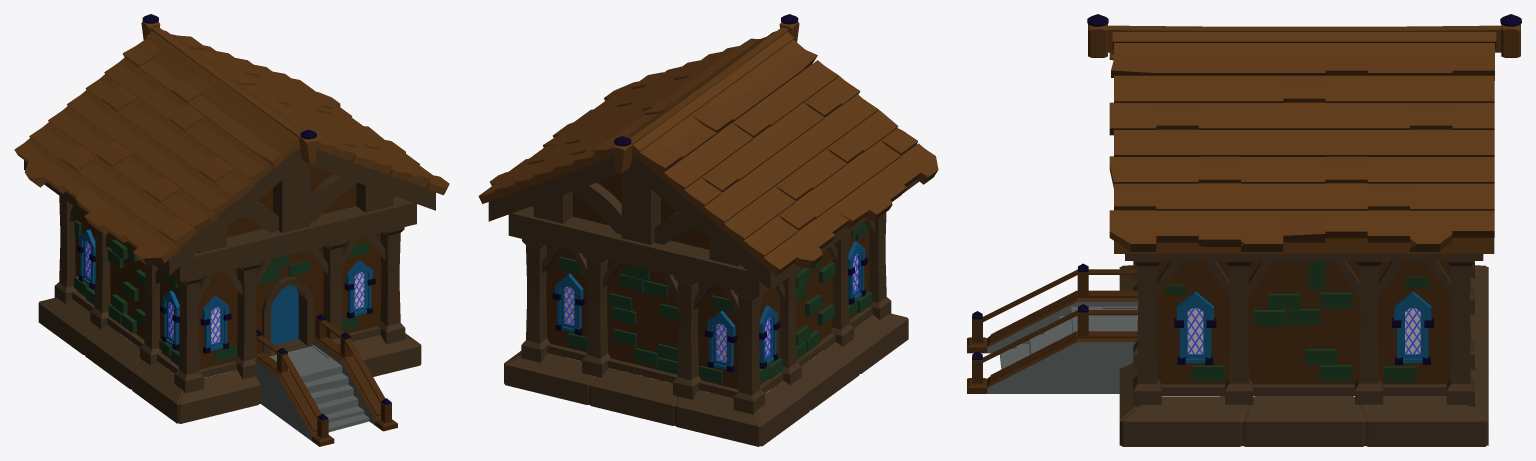
Rendered from SM_Hous_14_B.gltf.
3 renders of one model, left to right at view 1: azimuth 30°, elevation 25°; view 2: azimuth 150°, elevation 25°; view 3: azimuth 270°, elevation 25°, orthographic. The views are drawn at different scales.
Visible parts, largest first — view 1: SM_Hous_14_B; view 2: SM_Hous_14_B; view 3: SM_Hous_14_B.
Boxes of the visible parts, box(x1,y1,x2,y2) form: SM_Hous_14_B: box(14, 14, 449, 446); SM_Hous_14_B: box(478, 14, 938, 446); SM_Hous_14_B: box(967, 14, 1521, 446).
Bounding box in the file's own units: 11.03 × 9.31 × 13.18.
